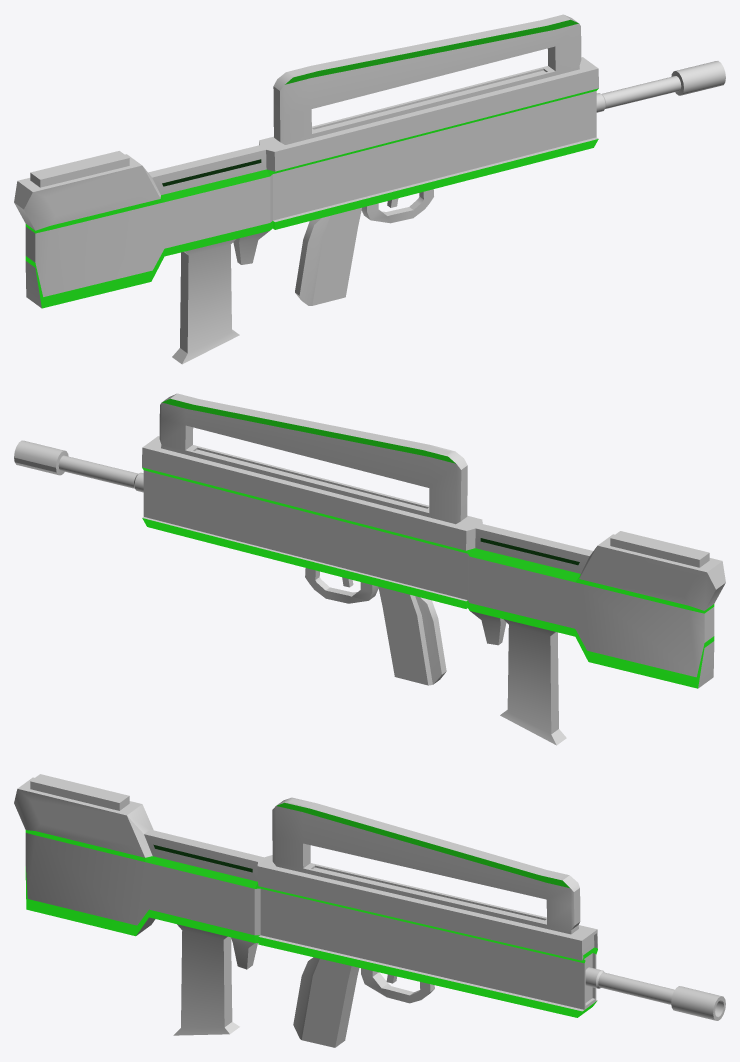
Rendered from Rifle.fbx.
3 views of the same model, one above another, from view 1: azimuth 30°, elevation 25°; view 2: azimuth 150°, elevation 25°; view 3: azimuth 330°, elevation 25° (orthographic).
Visible parts, largest first — view 1: Rifle; view 2: Rifle; view 3: Rifle.
Part boxes in pixels (x1=…): Rifle: x1=14, y1=14, x2=725, y2=364; Rifle: x1=14, y1=393, x2=725, y2=745; Rifle: x1=14, y1=774, x2=725, y2=1047.
Bounding box in the file's own units: 79.86 × 28.33 × 3.23.
